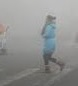person: (41, 14, 66, 74)
